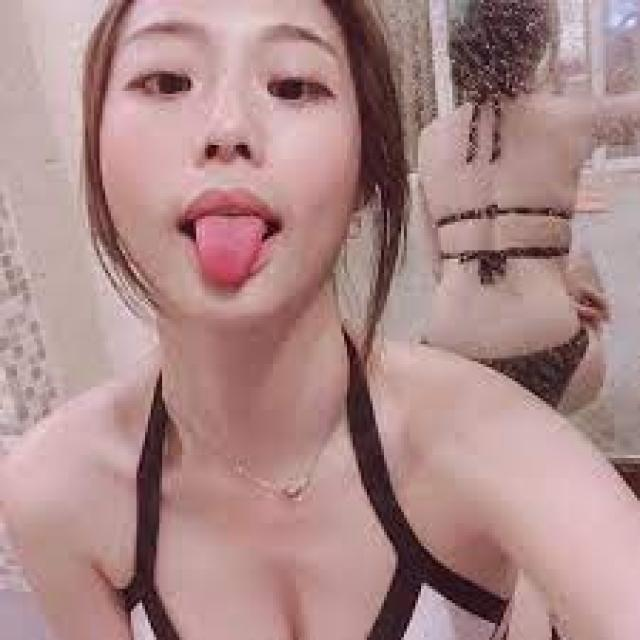tongue: (186, 213, 272, 292)
